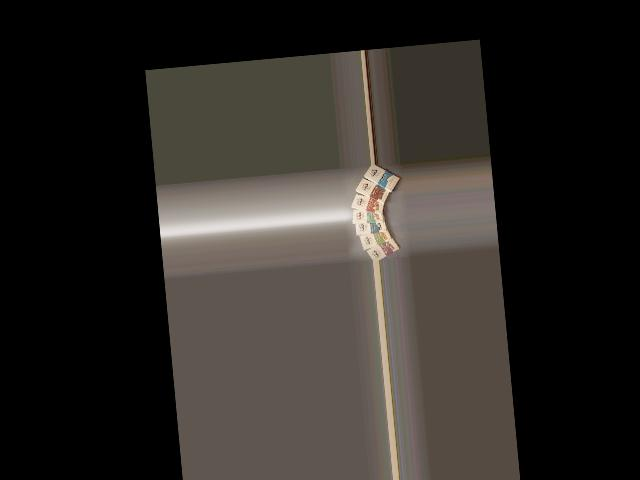chocolate: (362, 162, 403, 194)
